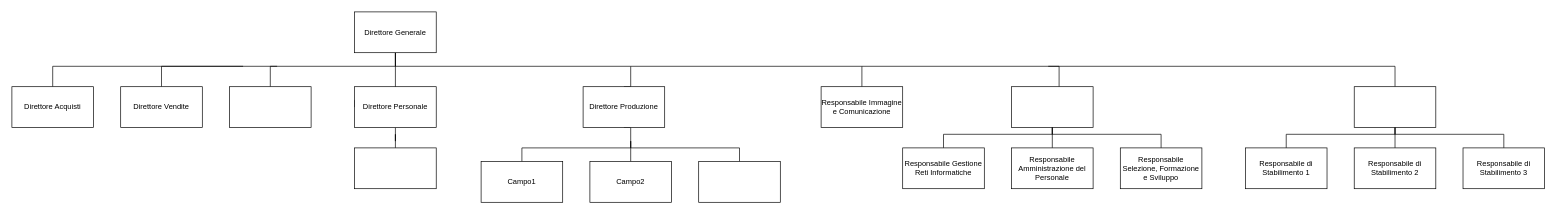
Some shapes in this 1557 by 214 pixel diagram are drawn without their labels. Each missing label, with the centre of its shape:
"Campo3" belongs at (739,181).
"Direttore Amministrativo" belongs at (270,107).
"Direttore Marketing" belongs at (1052,107).
"Responsabile Programmazione della Produzione" belongs at (395,168).
"Responsabili di Stabilimento" belongs at (1395,107).
